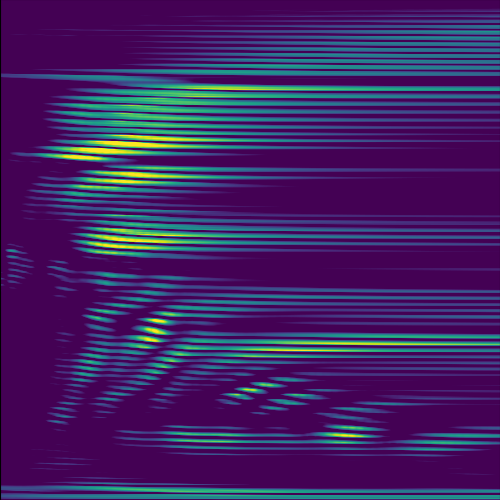semblance: (35, 126, 232, 166), (79, 219, 212, 263), (73, 160, 216, 196), (132, 304, 185, 357), (225, 370, 289, 407), (320, 422, 382, 441)
